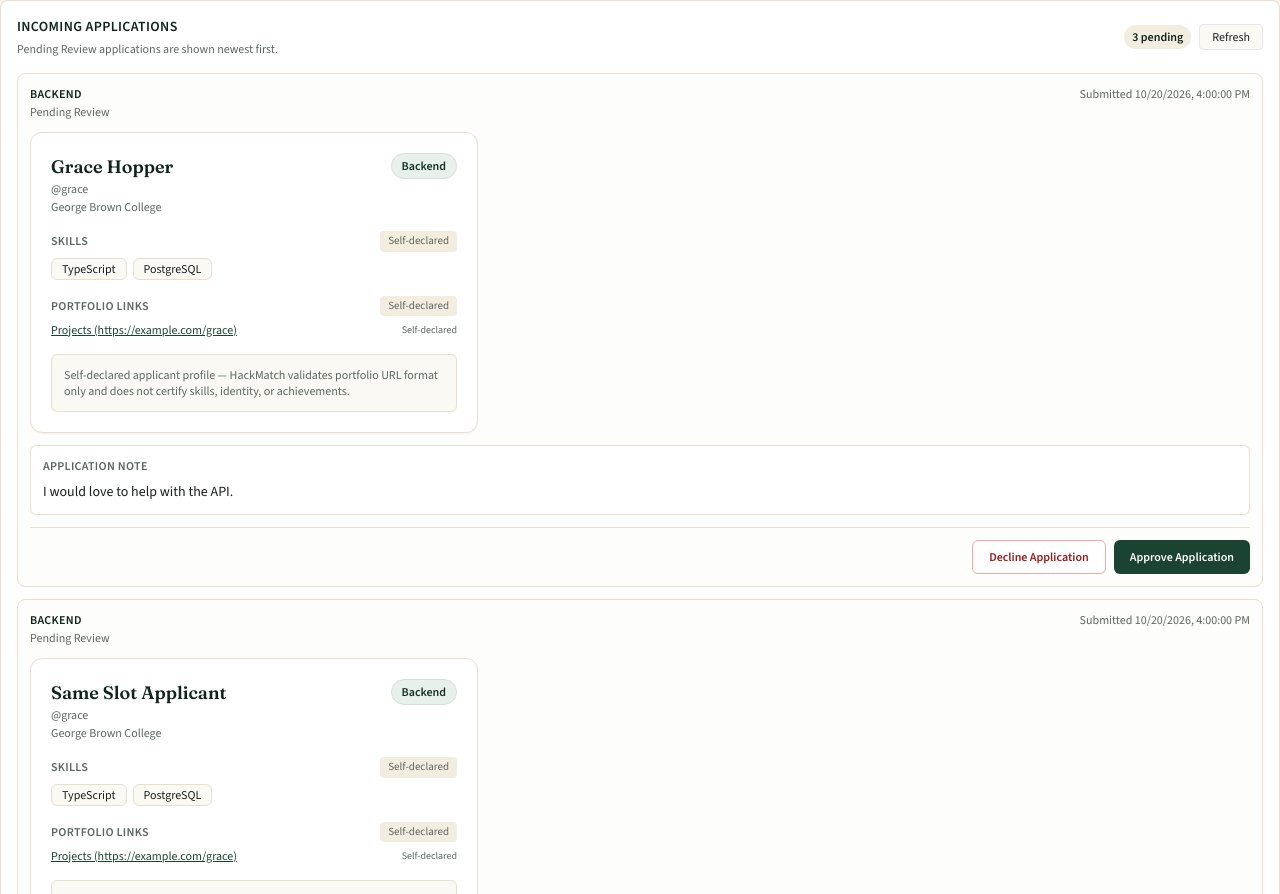
Test: OwnerApplicationsPanel (US-020 / #188–#194) › removes other reviews canceled for the filled slot and reports cascade effects
Click the button with test id "approve-application-app-1" at (1182,557), box [1114,540,1250,574]
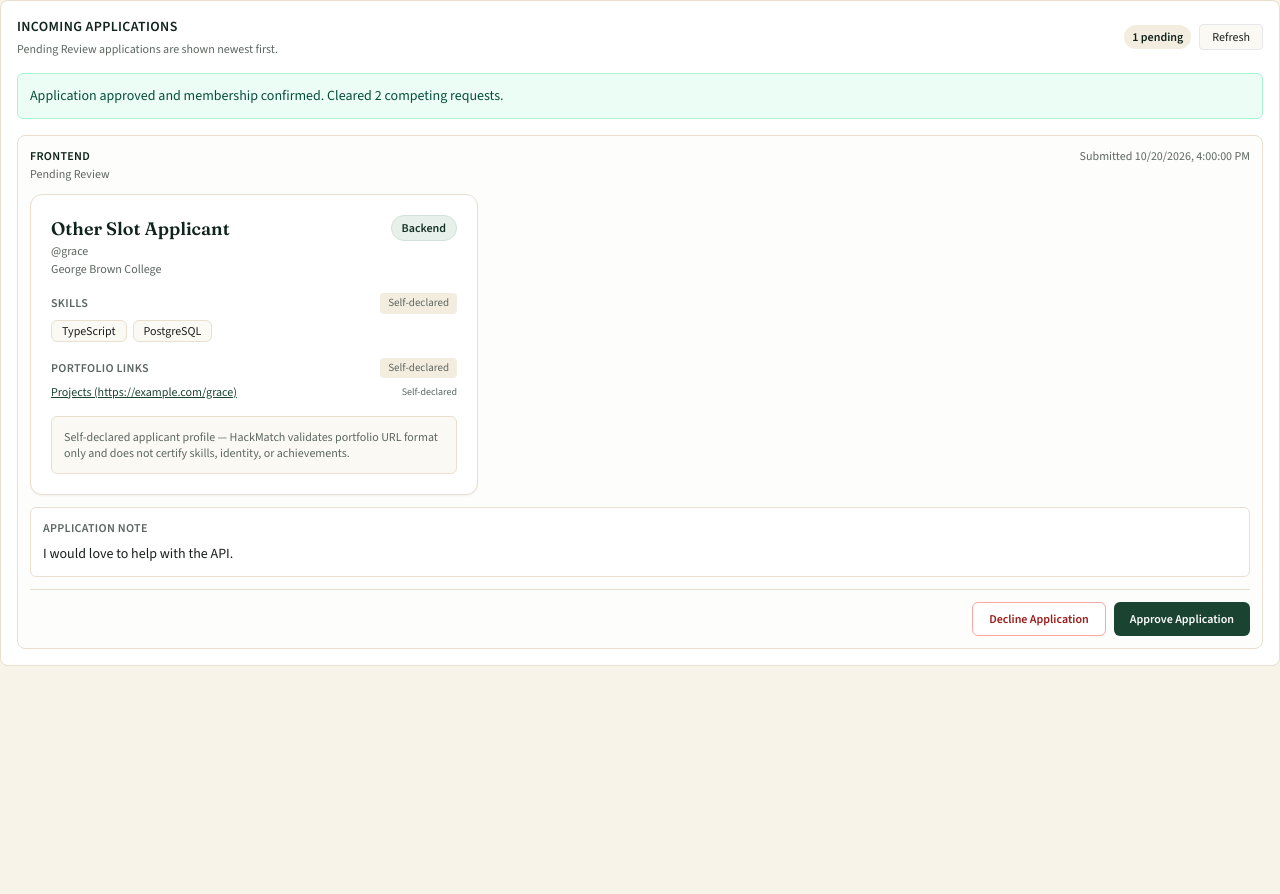
expect the message with test id "application-decision-success" shows "Cleared 2 competing requests": met, box [30,86,504,105]
expect the heading "Grace Hopper" is gone: met
expect the heading "Same Slot Applicant" is gone: met
